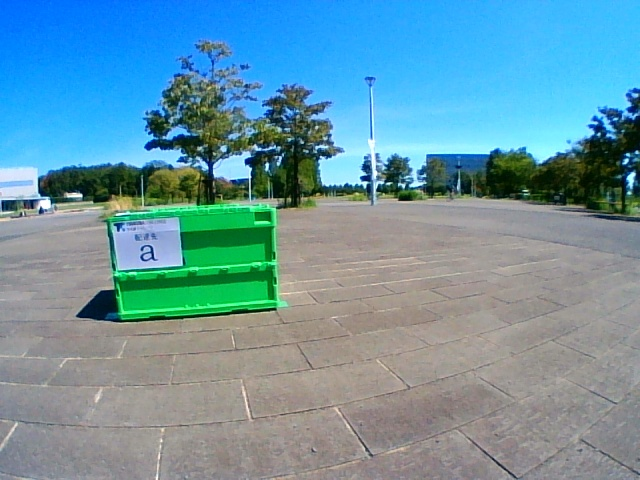green_box: (105, 203, 279, 320)
tag_a: (120, 222, 180, 267)
